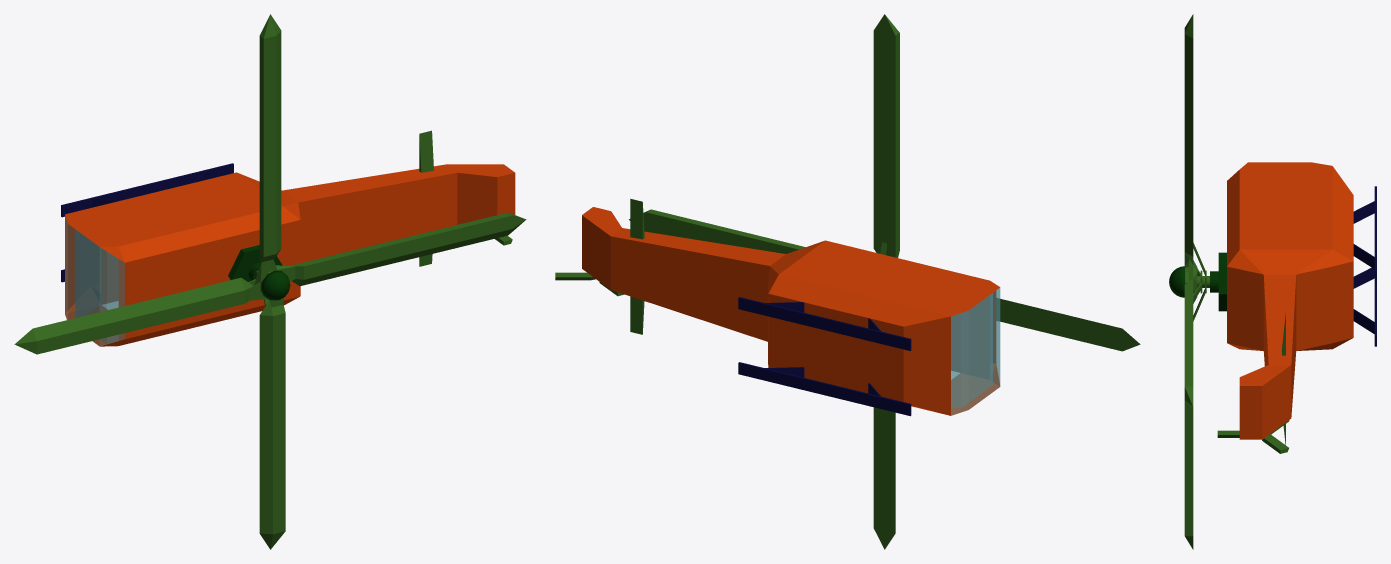
File: helico.obj
3 views of the same model, side by side, from view 1: azimuth 30°, elevation 25°; view 2: azimuth 150°, elevation 25°; view 3: azimuth 270°, elevation 25° (orthographic).
Visible parts, largest first — view 1: Chassis, RotorPrincipal, Fixation, Boule; view 2: Chassis, RotorPrincipal; view 3: Chassis, RotorPrincipal, Fixation, AntiRotor, Boule.
Part boxes in pixels (bbox=[...]): Chassis: bbox=[61, 130, 515, 346]; RotorPrincipal: bbox=[14, 14, 526, 549]; Fixation: bbox=[228, 245, 282, 281]; Boule: bbox=[261, 270, 290, 300]; Chassis: bbox=[582, 198, 1000, 416]; RotorPrincipal: bbox=[629, 14, 1140, 549]; Chassis: bbox=[1227, 162, 1376, 444]; RotorPrincipal: bbox=[1184, 14, 1209, 549]; Fixation: bbox=[1210, 252, 1226, 311]; AntiRotor: bbox=[1217, 420, 1289, 453]; Boule: bbox=[1169, 266, 1184, 297].
Size of the model in its own units: 14.81 by 14 by 4.92.
